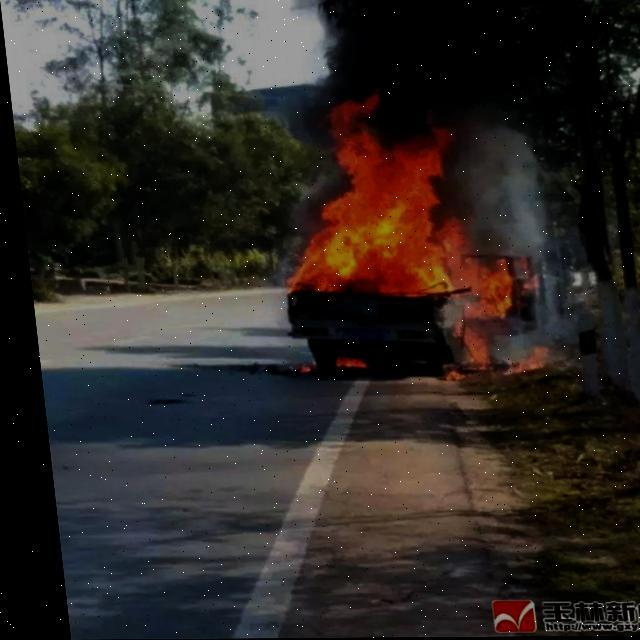Fire: (252, 92, 528, 376)
